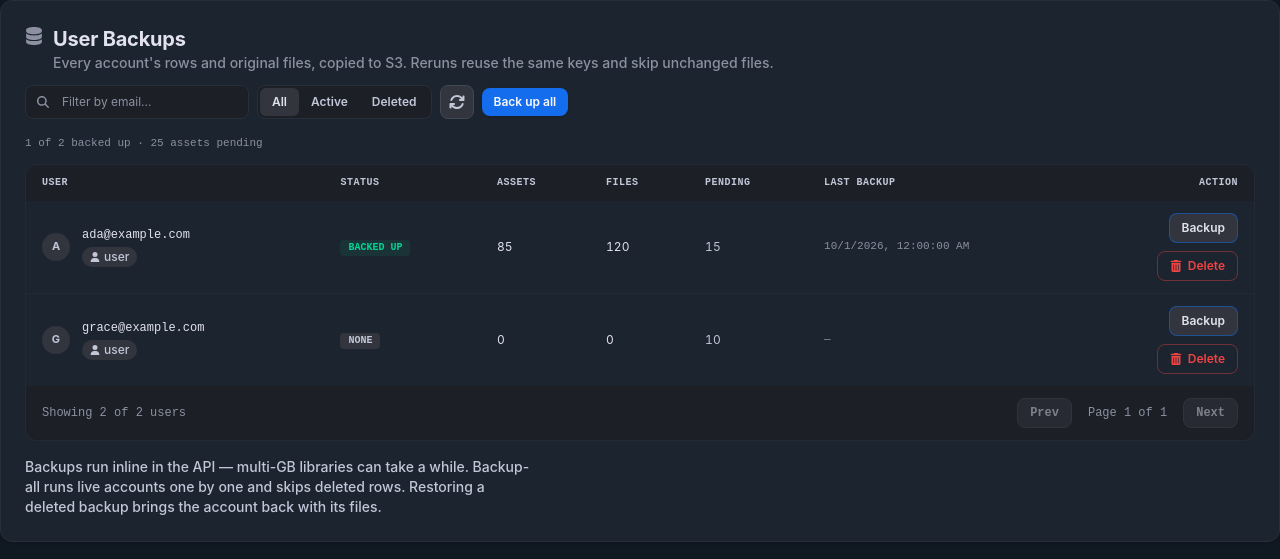
it: BackupSection table › filters client-side by email without refetching
The image size is (1280, 559).
Expected: the text "ada@example.com" is shown, [82,226,190,242]
Expected: the text "grace@example.com" is shown, [82,320,204,336]
In the field named "Filter backups by email": {"x": 137, "y": 102} [25,85,249,119], type "grace"
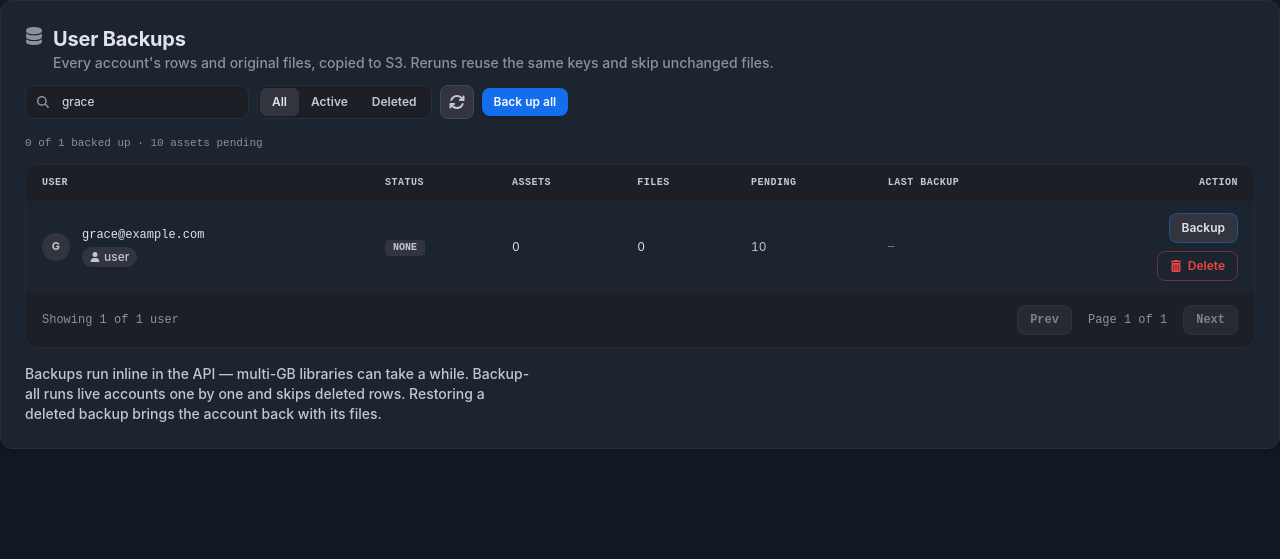
Expected: the text "grace@example.com" is shown, [82,226,204,242]
Result: the text "ada@example.com" is gone
Result: the text "Showing 1 of 1 user" is shown at [42,312,179,328]
